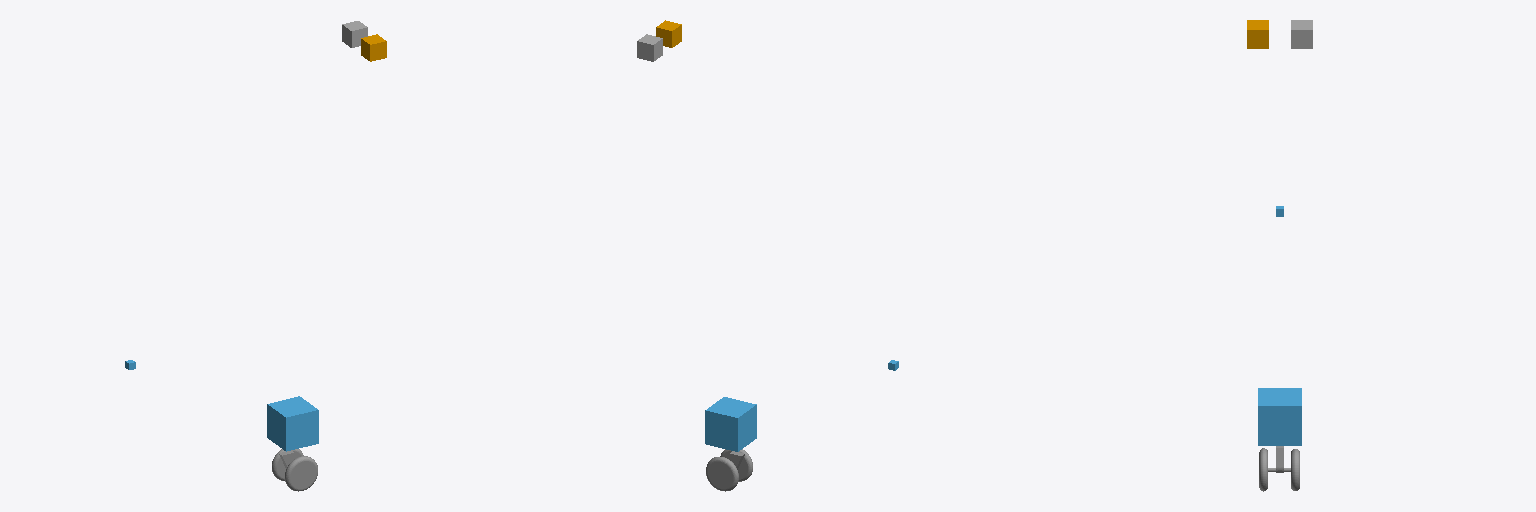
robot.urdf — bot:
<?xml version="1.0"?>
<robot name="bot">

  <gazebo>
	<plugin name="gazebo_ros_control" filename="libgazebo_ros_control.so">
	<robotNamespace>bot</robotNamespace>
	<robotSimType>gazebo_ros_control/DefaultRobotHWSim</robotSimType>
    	<legacyModeNS>true</legacyModeNS>
	</plugin>
  </gazebo>

  <gazebo>
    <plugin name="bot_controller" filename="libgazebo_ros_diff_drive.so">
      <commandTopic>cmd_vel</commandTopic>
      <odometryTopic>odom</odometryTopic>
      <odometryFrame>odom</odometryFrame>
      <odometrySource>world</odometrySource>
      <publishOdomTF>true</publishOdomTF>
      <robotBaseFrame>base_footprint</robotBaseFrame>
      <publishWheelTF>true</publishWheelTF> <!-- for proper rviz -->
      <publishTf>true</publishTf>
      <publishWheelJointState>true</publishWheelJointState>
      <legacyMode>false</legacyMode>
      <updateRate>30</updateRate>
      <leftJoint>left_tyre_joint</leftJoint>
      <rightJoint>right_tyre_joint</rightJoint>
      <wheelSeparation>0.646</wheelSeparation>
      <wheelDiameter>0.270</wheelDiameter>
      <wheelAcceleration>1.2</wheelAcceleration>
      <wheelTorque>10</wheelTorque>
      <rosDebugLevel>na</rosDebugLevel>
    </plugin>
  </gazebo>

  <gazebo reference="laser_link">
    <material>Gazebo/Grey</material>
    <sensor type="ray" name="lds_lfcd_sensor">
      <pose>0 0 0 0 0 0</pose>
      <visualize>false</visualize>
      <update_rate>10</update_rate>
      <ray>
        <scan>
          <horizontal>
            <samples>360</samples>
            <resolution>1</resolution>
            <min_angle>0.0</min_angle>
            <max_angle>6.28319</max_angle>
          </horizontal>
        </scan>
        <range>
          <min>0.120</min>
          <max>5</max>
          <resolution>0.015</resolution>
        </range>
        <noise>
          <type>gaussian</type>
          <mean>0.0</mean>
          <stddev>0.01</stddev>
        </noise>
      </ray>
      <plugin name="gazebo_ros_lds_lfcd_controller" filename="libgazebo_ros_laser.so">
        <topicName>/scan</topicName>
        <frameName>laser_link</frameName>
      </plugin>
    </sensor>
  </gazebo>


  <link name="base_footprint"/>

  <joint name="base_joint" type="fixed">
    <parent link="base_footprint"/>
    <child link="base_link"/>
    <origin xyz="0.0 0.0 0.010" rpy="0 0 0"/>
  </joint>

  <joint name="counter_weight_joint" type="fixed">
    <parent link="base_link"/>
    <child link="counter_weight_link"/>
    <origin xyz="0.5 0.0 0.1" rpy="0 0 0"/>
  </joint>

  <link name="counter_weight_link">
    <visual>
      <origin rpy="0 0 0" xyz="0 0 0"/>
      <geometry>
	<box size= "0.1 0.1 0.1"/>
      </geometry>
    </visual>
    
    <inertial>
      <origin xyz="0 0 0" rpy="0 0 0"/>
      <mass value="1" />
      <inertia ixx="0.00166666666667" ixy="0.0" ixz="0.0" iyy="0.00166666666667" iyz="0.0" izz="0.00166666666667"/>
    </inertial>

    <collision>
      <origin xyz="0 0 0" rpy="0 0 0"/>
      <geometry>
      <box size="0.02 0.02 0.02"/>
      </geometry>
    </collision>

  </link>

  <link name="base_link">
    <visual>
      <origin rpy="0 0 0" xyz="0 0 0"/>
      <geometry>
	<mesh filename="package://igvc_bot/models/meshes/bot2.dae"/>
      </geometry>
    </visual>

    <inertial>
      <origin xyz="0 0 0" rpy="0 0 0"/>
      <mass value="6" />
      <inertia ixx="0.222416666667" ixy="0.0" ixz="0.0" iyy="1" iyz="0.0" izz="0.732002666667"/>
    </inertial>

    <collision>
      <origin xyz="0 0 0" rpy="0 0 0"/>
      <geometry>
      <mesh filename="package://igvc_bot/models/meshes/bot2.dae"/>
      </geometry>
    </collision>
  </link>

  <gazebo reference="base_link">
    <kp>1000.0</kp>
    <kd>10.0</kd>
    <mu1>10.0</mu1>
    <mu2>10.0</mu2>
    <material>Gazebo/White</material>
  </gazebo>

  <link name="left_tyre_link">
    <visual>
    <origin rpy="0 0 0" xyz="0 0 0" />
      <geometry>
	<mesh filename="package://igvc_bot/models/meshes/tyre1.dae"/>
      </geometry>
    </visual>

    <inertial>
      <origin xyz="0 0 0" rpy="0 0 0"/>
      <mass value="0.2" />
      <inertia ixx="0.00098" ixy="0.0" ixz="0.0" iyy="0.00098" iyz="0.0" izz="0.00169"/>
    </inertial>

    <collision>
      <origin xyz="0 0 0" rpy="1.57 0 0"/>
      <geometry>
      <cylinder radius="0.135" length ="0.09"/>
      </geometry>
    </collision>

  </link>

  <gazebo reference="left_tyre_link">
    <mu1>0.4</mu1>
    <mu2>0.4</mu2>
    <kp>100000.0</kp>
    <kd>10.0</kd>
    <minDepth>0.001</minDepth>
    <fdir1>1 0 0</fdir1>
    <material>Gazebo/FlatBlack</material>
  </gazebo>

  <joint name="left_tyre_joint" type="continuous">
    <parent link="base_link"/>
    <child link="left_tyre_link"/>
    <origin xyz="0.0 0.323 0" rpy="0 0 0"/>
    <limit  effort="2" velocity="5"/>
    <axis xyz="0 1 0"/>	
  </joint>

  <link name="right_tyre_link">
    <visual>
    <origin rpy="0 0 0" xyz="0 0 0" />
      <geometry>
	<mesh filename="package://igvc_bot/models/meshes/tyre1.dae"/>
      </geometry>
    </visual>

    <inertial>
      <origin xyz="0 0 0" rpy="0 0 0"/>
      <mass value="0.2" />
      <inertia ixx="0.00098" ixy="0.0" ixz="0.0" iyy="0.00098" iyz="0.0"
izz="0.00169"/>
    </inertial>

    <collision>
      <origin xyz="0 0 0" rpy="1.57 0 0"/>
      <geometry>
      <cylinder radius="0.135" length ="0.09"/>
      </geometry>
    </collision>

  </link>

  <gazebo reference="right_tyre_link">
    <mu1>0.4</mu1>
    <mu2>0.4</mu2>
    <kp>100000.0</kp>
    <kd>10.0</kd>
    <minDepth>0.001</minDepth>
    <fdir1>1 0 0</fdir1>
    <material>Gazebo/FlatBlack</material>    
  </gazebo>

  <joint name="right_tyre_joint" type="continuous">
    <parent link="base_link"/>
    <child link="right_tyre_link"/>
    <origin xyz="0.0 -0.323 0" rpy="0 0 0"/>
    <limit  effort="2" velocity="5"/>
    <axis xyz="0 1 0"/>
  </joint>

  <link name="caster_link">
    <visual>
    <origin rpy="0 0 0" xyz="0 0 0" />
      <geometry>
	<mesh filename="package://igvc_bot/models/meshes/castors1.dae"/>
      </geometry>
    </visual>

    <inertial>
      <origin xyz="0 0 0" rpy="0 0 0"/>
      <mass value="0.05" />
      <inertia ixx="6.57541666667e-05" ixy="0.0" ixz="0.0" iyy="6.57541666667e-05" iyz="0.0" izz="6.25e-05"/>
    </inertial>

    <collision>
      <origin xyz="0 0 -0.055" rpy="1.57 0 0"/>
      <geometry>
      <cylinder radius ="0.05" length="0.091"/>
      </geometry>
    </collision>
  </link>

  <gazebo reference="caster_link">
    <kp>10000.0</kp>
    <kd>10000.0</kd>
    <mu1>0.1</mu1>
    <mu2>0.1</mu2>
    <material>Gazebo/Grey</material>
  </gazebo>

  <joint name="caster_joint" type="fixed">
    <parent link="base_link"/>
    <child link="caster_link"/>
    <origin xyz="0.48 0 0.019" rpy="0 0 0"/>
    <limit  effort="2" velocity="5"/>
  </joint>

<link name="laser_link">
    <visual>
    <origin rpy="0 0 0" xyz="0 0 0" />
      <geometry>
	<mesh filename="package://igvc_bot/models/meshes/sick-lms1xx.dae"/>
      </geometry>
    </visual>

    <inertial>
      <origin xyz="0 0 0" rpy="0 0 0"/>
      <mass value="0.05" />
      <inertia ixx="6.57541666667e-05" ixy="0.0" ixz="0.0" iyy="6.57541666667e-05" iyz="0.0" izz="6.25e-05"/>
    </inertial>

    <collision>
      <origin xyz="0 0 0" rpy="0 0 0"/>
      <geometry>
      <cylinder radius ="0.09" length="0.147"/>
      </geometry>
    </collision>
  </link>

  <joint name="laser_link_joint" type="fixed">
    <parent link="base_link"/>
    <child link="laser_link"/>
    <origin xyz="0.76 0 0.39" rpy="0 0 0"/>
    <limit  effort="2" velocity="5"/>
  </joint>

  <gazebo reference="laser_link">
    <kp>1000.0</kp>
    <kd>1000.0</kd>
    <mu1>1.0</mu1>
    <mu2>1.0</mu2>
    <material>Gazebo/Grey</material>
  </gazebo>
  
      <joint name="camera_right" type="fixed">
        <parent link="base_link"/>
        <child link="camera_right"/>
        <origin xyz="0.72 0.05 1.175" rpy="0 0 0" />
        <limit effort="2" velocity="5"/> <!-- ??? -->
      </joint>
      <link name="camera_right">
      <visual>
          <origin xyz="0 0 0" rpy="0 0 0" />
          <geometry>
              <box size="0.05 0.05 0.05" />
          </geometry>
      </visual>
      </link>
    <gazebo reference="camera_right">
        <material>Gazebo/Grey</material>
        <sensor type="camera" name="camera_right">
          <update_rate>30.0</update_rate>
          <camera name="right">
            <horizontal_fov>1.3962634</horizontal_fov>
            <image>
              <width>800</width>
              <height>800</height>
              <format>R8G8B8</format>
            </image>
            <clip>
              <near>0.02</near>
              <far>300</far>
            </clip>
            <noise>
              <type>gaussian</type>
              <mean>0.0</mean>
              <stddev>0.007</stddev>
            </noise>
          </camera>
          <plugin name="camera_right" filename="libgazebo_ros_camera.so">
            <alwaysOn>true</alwaysOn>
            <updateRate>0.0</updateRate>
            <cameraName>camera_right</cameraName>
            <imageTopicName>image_raw</imageTopicName>
            <cameraInfoTopicName>camera_right</cameraInfoTopicName>
            <frameName>camera_right</frameName>
            <hackBaseline>0.07</hackBaseline>
            <distortionK1>0.0</distortionK1>
            <distortionK2>0.0</distortionK2>
            <distortionK3>0.0</distortionK3>
            <distortionT1>0.0</distortionT1>
            <distortionT2>0.0</distortionT2>
          </plugin>
        </sensor>
    </gazebo>
    
    <joint name="camera_left" type="fixed">
        <parent link="base_link"/>
        <child link="camera_left"/>
        <origin xyz="0.72 -0.05 1.175" rpy="0 0 0" />
        <limit effort="2" velocity="5"/> <!-- ??? -->
      </joint>
      <link name="camera_left">
      <visual>
          <origin xyz="0 0 0" rpy="0 0 0" />
          <geometry>
              <box size="0.05 0.05 0.05" />
          </geometry>
      </visual>
      </link>
    <gazebo reference="camera_left">
        <material>Gazebo/Grey</material>
        <sensor type="camera" name="camera_left">
          <update_rate>30.0</update_rate>
          <camera name="left">
            <horizontal_fov>1.3962634</horizontal_fov>
            <image>
              <width>800</width>
              <height>800</height>
              <format>R8G8B8</format>
            </image>
            <clip>
              <near>0.02</near>
              <far>300</far>
            </clip>
            <noise>
              <type>gaussian</type>
              <mean>0.0</mean>
              <stddev>0.007</stddev>
            </noise>
          </camera>
          <plugin name="camera_left" filename="libgazebo_ros_camera.so">
            <alwaysOn>true</alwaysOn>
            <updateRate>0.0</updateRate>
            <cameraName>camera_left</cameraName>
            <imageTopicName>image_raw</imageTopicName>
            <cameraInfoTopicName>camera</cameraInfoTopicName>
            <frameName>camera_left</frameName>
            <hackBaseline>0.07</hackBaseline>
            <distortionK1>0.0</distortionK1>
            <distortionK2>0.0</distortionK2>
            <distortionK3>0.0</distortionK3>
            <distortionT1>0.0</distortionT1>
            <distortionT2>0.0</distortionT2>
          </plugin>
        </sensor>
    </gazebo>
    
       <joint name="imu" type="fixed">
        <parent link="base_link"/>
        <child link="imu_link"/>
        <origin xyz="0 0 0.39" rpy="0 0 0" />
        <limit effort="2" velocity="5"/> <!-- ??? -->
      </joint>
      <link name="imu_link">
      <visual>
          <origin xyz="0 0 0" rpy="0 0 0" />
          <geometry>
              <box size="0.02 0.02 0.02" />
          </geometry>
      </visual>
      </link>
    
    
    <gazebo reference="imu_link">
            <material>Gazebo/Grey</material>
    <gravity>true</gravity>
    <sensor name="imu" type="imu">
      <always_on>true</always_on>
      <update_rate>100</update_rate>
      <visualize>true</visualize>
      <topic>__default_topic__</topic>
      <plugin filename="libgazebo_ros_imu_sensor.so" name="imu_plugin">
        <topicName>imu</topicName>
        <bodyName>imu_link</bodyName>
        <updateRateHZ>10.0</updateRateHZ>
        <gaussianNoise>0.0</gaussianNoise>
        <xyzOffset>0 0 0</xyzOffset>
        <rpyOffset>0 0 0</rpyOffset>
        <frameName>imu_link</frameName>
        <initialOrientationAsReference>false</initialOrientationAsReference>
      </plugin>
      <pose>0 0 0 0 0 0</pose>
    </sensor>
    
  </gazebo>
    
    
    
    <joint name="gps_joint" type="fixed">
      <origin xyz="0 0 0"/>
      <parent link="base_link"/>
      <child link="gps_link"/>
    </joint>

    <link name="gps_link"/>

<!--
    <gazebo>      
      <sensor type="hector_gazebo_ros_gps" name="gps" >
        <alwaysOn>true</alwaysOn>
        <updateRate>4.0</updateRate>
        <plugin name="gps" filename="libhector_gazebo_ros_test.so">
            <bodyName>gps_link</bodyName>
            <topicName>fix</topicName>
            <velocityTopicName>fix_vel</velocityTopicName>
            <drift>5.0 5.0 5.0</drift>
            <gaussianNoise>0.1 0.1 0.1</gaussianNoise>
            <velocityDrift>0 0 0</velocityDrift>
            <velocityGaussianNoise>0.1 0.1 0.1</velocityGaussianNoise>
            </plugin>
      </sensor>
    </gazebo>
    -->
    
      <gazebo >
    <plugin name="gps" filename="libhector_gazebo_ros_gps.so">
      <alwaysOn>1</alwaysOn>
      <updateRate>10.0</updateRate>
      <bodyName>gps_link</bodyName>
    <frameId>gps_link</frameId>
    
      <topicName>fix</topicName>
      <velocityTopicName>fix_velocity</velocityTopicName>
      <drift>5.0 5.0 5.0</drift>
      <gaussianNoise>0.1 0.1 0.1</gaussianNoise>
      <velocityDrift>0 0 0</velocityDrift>
      <velocityGaussianNoise>0.1 0.1 0.1</velocityGaussianNoise>
    </plugin>
  </gazebo>
</robot>

--- What the picture shows (computed from the rendered views, not written in the file) ---
Views: 3 orthographic renders of the robot side by side, from view 1: azimuth 30°, elevation 25°; view 2: azimuth 150°, elevation 25°; view 3: azimuth 270°, elevation 25°.
Robot: bot — 11 links, 10 joints (2 continuous, 8 fixed); root link base_footprint; default pose: all joints at 0.
Links seen in each view (by area): view 1: counter_weight_link, caster_link, camera_left, camera_right; view 2: counter_weight_link, caster_link, camera_right, camera_left; view 3: counter_weight_link, caster_link, camera_right, camera_left.
Link boxes in pixels (x1,y1,x2,y2): counter_weight_link: [267, 396, 318, 451]; caster_link: [272, 449, 317, 491]; camera_left: [361, 34, 386, 61]; camera_right: [342, 21, 367, 47]; counter_weight_link: [705, 397, 756, 451]; caster_link: [706, 449, 752, 491]; camera_right: [637, 34, 662, 61]; camera_left: [656, 20, 681, 47]; counter_weight_link: [1258, 388, 1301, 445]; caster_link: [1259, 446, 1299, 491]; camera_right: [1291, 20, 1312, 48]; camera_left: [1247, 20, 1268, 48].
Size in the robot's own frame: 0.755 by 0.15 by 1.28 metres.
Meshes: 4 distinct files referenced, 1 mesh visuals loaded (1 Collada DAE); not drawn: 4 (reference not matched to a file when rendering).
